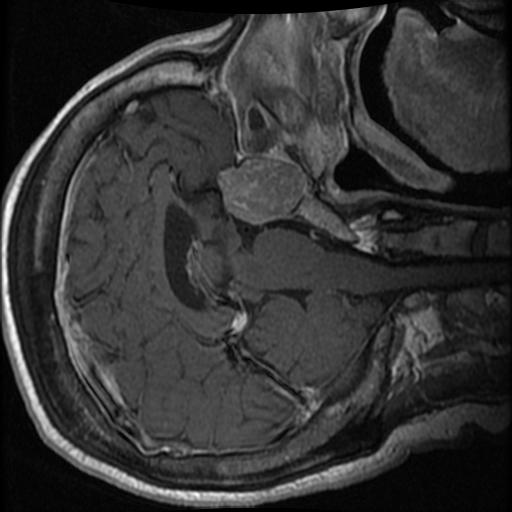pituitary tumour: (217, 162, 301, 223)
